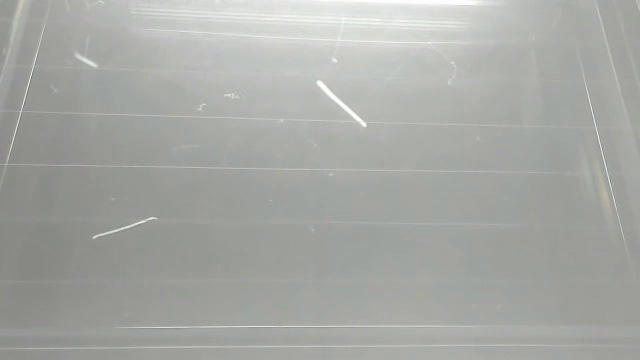alpha: (313, 77, 370, 130), (90, 214, 160, 244), (71, 48, 103, 71)
